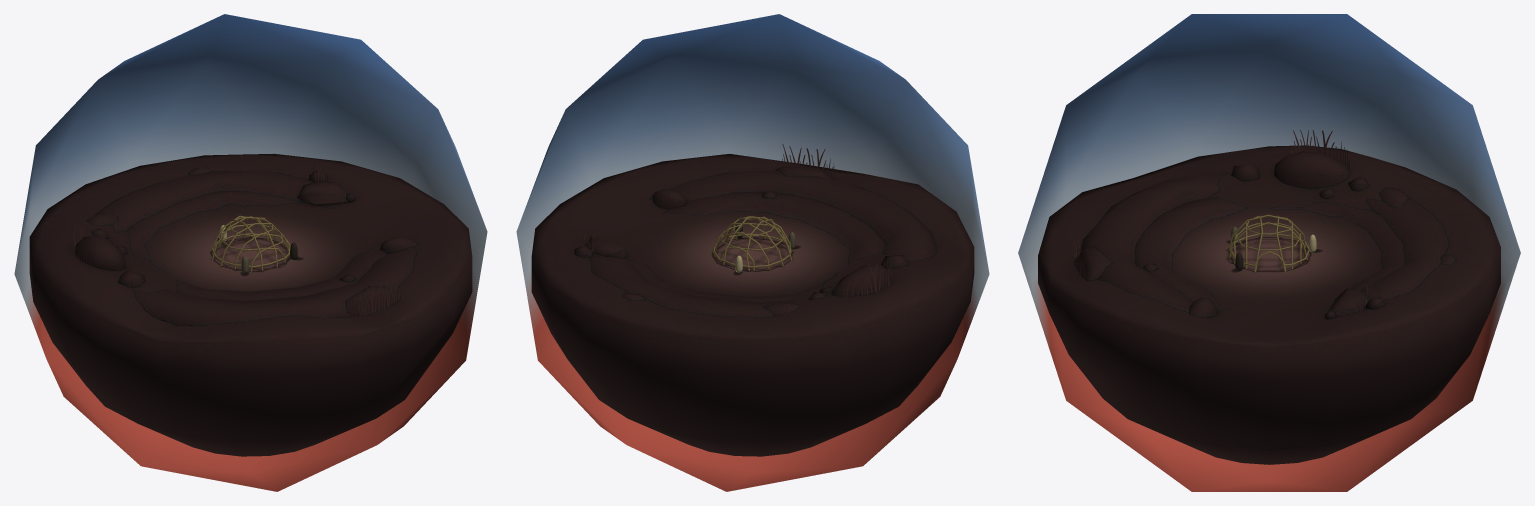
The picture shows the model from 3 angles, left to right: view 1: azimuth 30°, elevation 25°; view 2: azimuth 150°, elevation 25°; view 3: azimuth 270°, elevation 25°; orthographic projection. The views are drawn at different scales.
Visible parts, largest first — view 1: ground.006, envirosphere.004, GRASS.006; view 2: ground.006, envirosphere.004, GRASS.007; view 3: ground.006, envirosphere.004, GRASS.007.
Boxes of the visible parts, x1,y1,x2,y2 form: ground.006: [29, 153, 472, 456]; envirosphere.004: [14, 14, 487, 491]; GRASS.006: [348, 273, 401, 316]; ground.006: [531, 154, 974, 456]; envirosphere.004: [516, 14, 989, 491]; GRASS.007: [843, 261, 891, 296]; ground.006: [1038, 145, 1500, 464]; envirosphere.004: [1018, 14, 1520, 491]; GRASS.007: [1290, 130, 1349, 170].
Bounding box in the file's own units: 13.02 × 13.69 × 13.69.
Materials: 7 (3 with a texture image).
